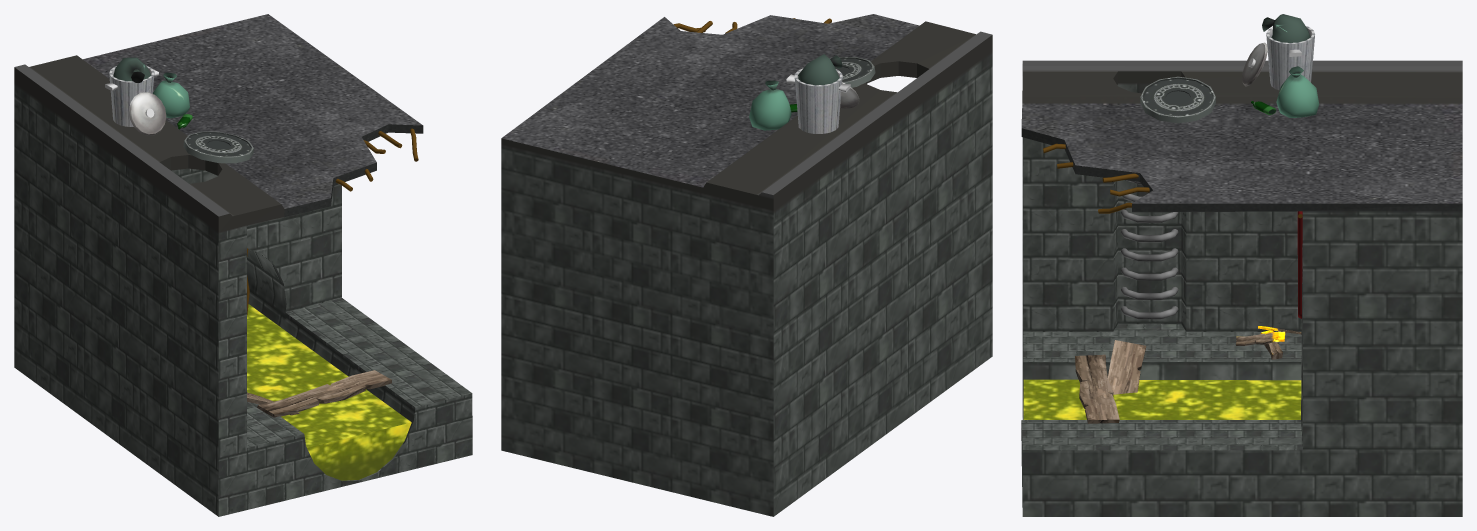
File: Sewer_01.fbx
3 views of the same model, side by side, from view 1: azimuth 30°, elevation 25°; view 2: azimuth 150°, elevation 25°; view 3: azimuth 270°, elevation 25° (orthographic). The views are drawn at different scales.
Parts seen in each view (by area): view 1: sewer; view 2: sewer; view 3: sewer.
Part boxes in pixels (x1,y1,x2,y2): sewer: [14, 14, 472, 516]; sewer: [501, 14, 992, 516]; sewer: [1021, 14, 1462, 516].
Size of the model in its own units: 1135 by 1532 by 1578.
